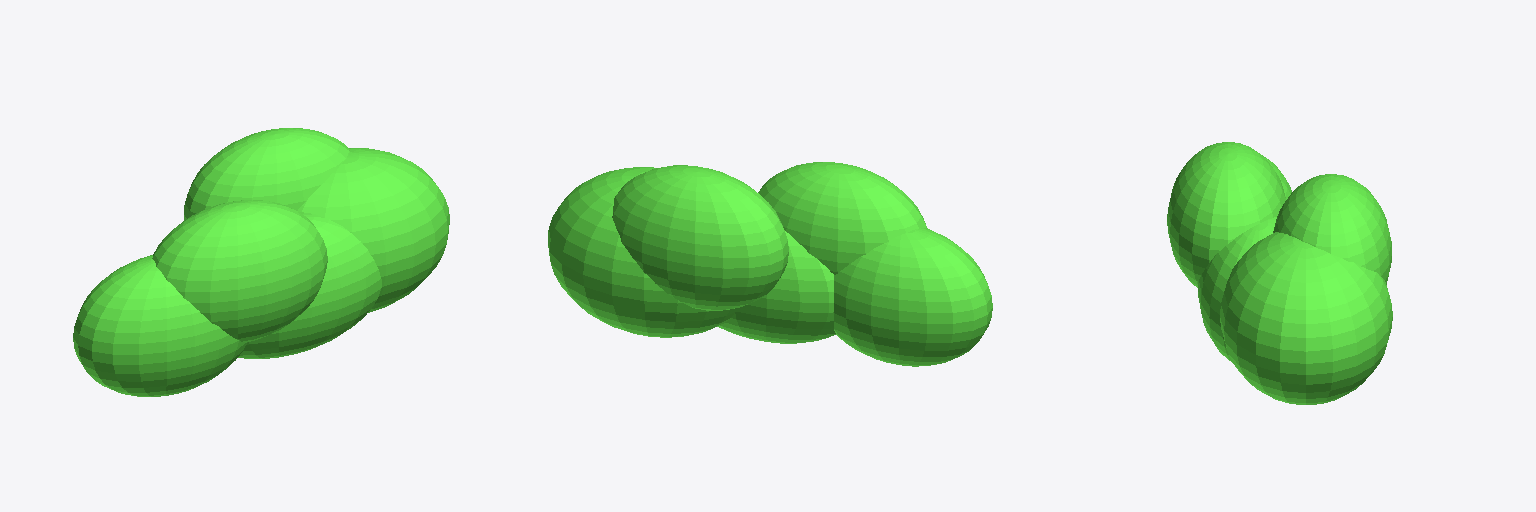
The model's file is bush2.obj.
3 renders of one model, left to right at view 1: azimuth 30°, elevation 25°; view 2: azimuth 150°, elevation 25°; view 3: azimuth 270°, elevation 25°, orthographic.
Visible parts, largest first — view 1: pSphere3, pSphere2, pSphere4, pSphere5, pSphere1; view 2: pSphere5, pSphere2, pSphere4, pSphere3, pSphere1; view 3: pSphere4, pSphere3, pSphere5, pSphere1.
Part boxes in pixels (x1,y1,x2,y2): pSphere3: (152, 200, 327, 342); pSphere2: (73, 255, 247, 396); pSphere4: (298, 148, 449, 312); pSphere5: (184, 128, 349, 220); pSphere1: (238, 212, 381, 358); pSphere5: (612, 165, 788, 310); pSphere2: (834, 228, 992, 366); pSphere4: (548, 167, 737, 337); pSphere3: (758, 162, 926, 274); pSphere1: (717, 231, 835, 343); pSphere4: (1220, 232, 1392, 404); pSphere3: (1167, 142, 1285, 287); pSphere5: (1273, 174, 1391, 284); pSphere1: (1198, 217, 1276, 362).
Bounding box in the file's own units: 7.53 × 3.33 × 3.7.